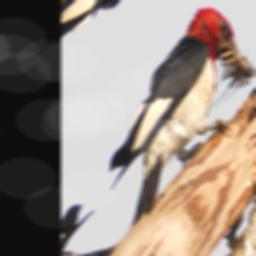Woodpecker: (84, 0, 256, 245)
